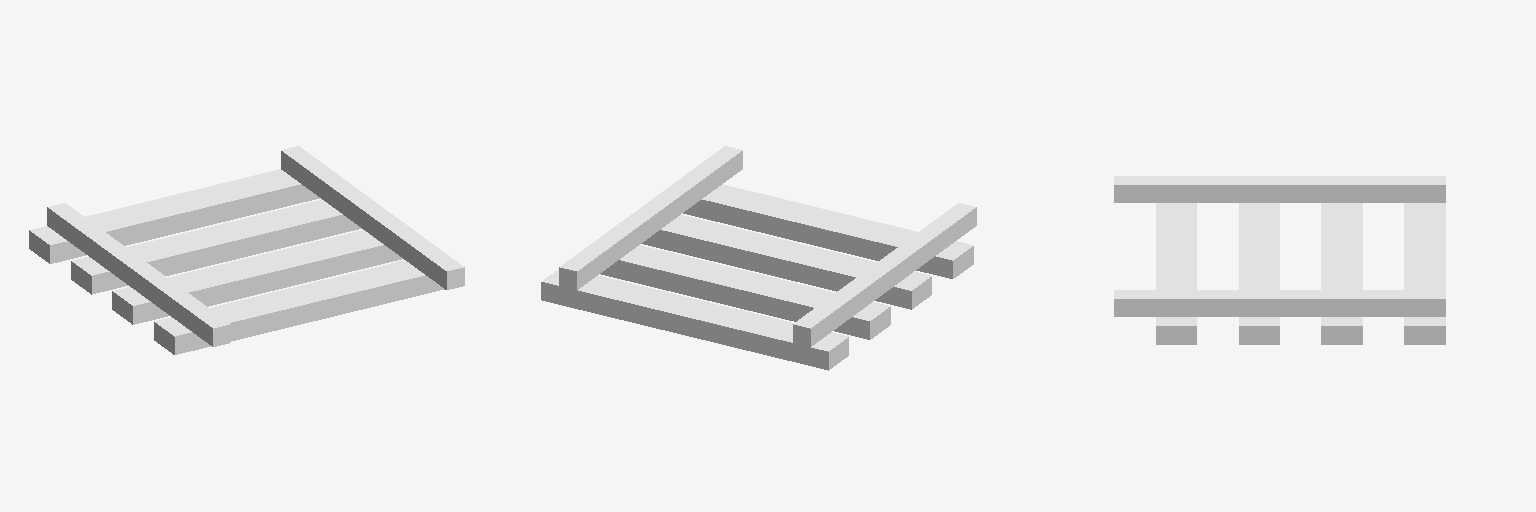
File: Rail.obj
The picture shows the model from 3 angles: view 1: azimuth 30°, elevation 25°; view 2: azimuth 150°, elevation 25°; view 3: azimuth 270°, elevation 25°; orthographic projection.
Parts seen in each view (by area): view 1: object 1; view 2: object 1; view 3: object 1.
Part boxes in pixels (x1,y1,x2,y2): object 1: (29,146,464,354); object 1: (541,146,976,370); object 1: (1114,176,1445,344).
Bounding box in the file's own units: 1.6 × 0.2 × 1.6.